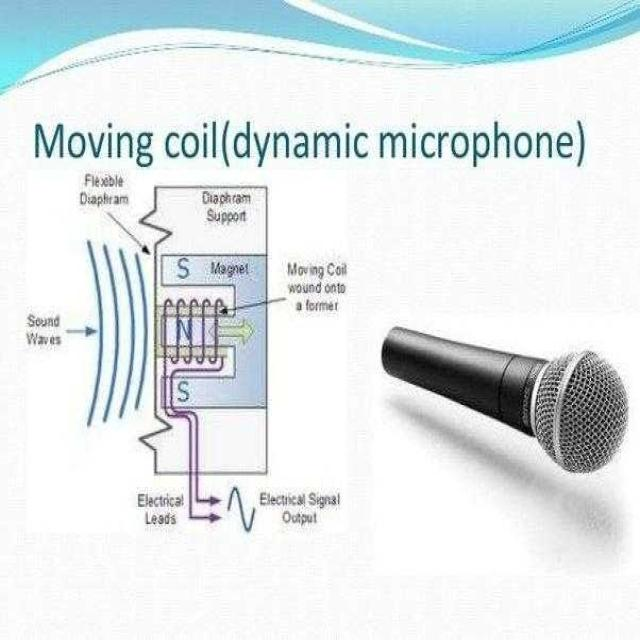microphone: (381, 322, 628, 476)
